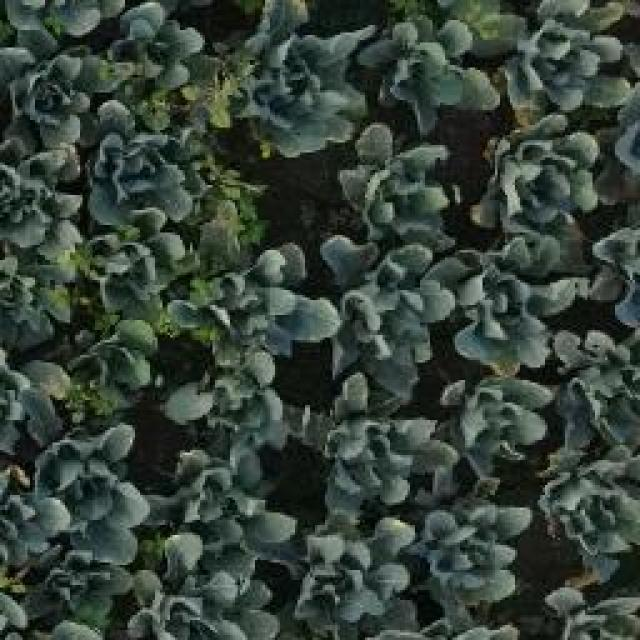cabbage: (317, 230, 463, 378), (226, 4, 360, 154), (306, 380, 446, 508), (496, 0, 640, 120), (354, 11, 496, 124), (454, 236, 574, 368), (475, 114, 597, 242), (184, 243, 316, 358), (126, 532, 266, 640), (35, 425, 146, 561), (294, 507, 416, 627), (89, 98, 203, 225), (420, 478, 532, 607), (336, 124, 458, 231), (542, 460, 640, 590), (166, 348, 298, 443), (550, 327, 640, 465), (171, 442, 295, 540), (0, 40, 94, 162), (61, 306, 158, 410), (82, 222, 188, 314), (104, 0, 208, 91), (0, 154, 86, 260), (454, 378, 545, 468)
